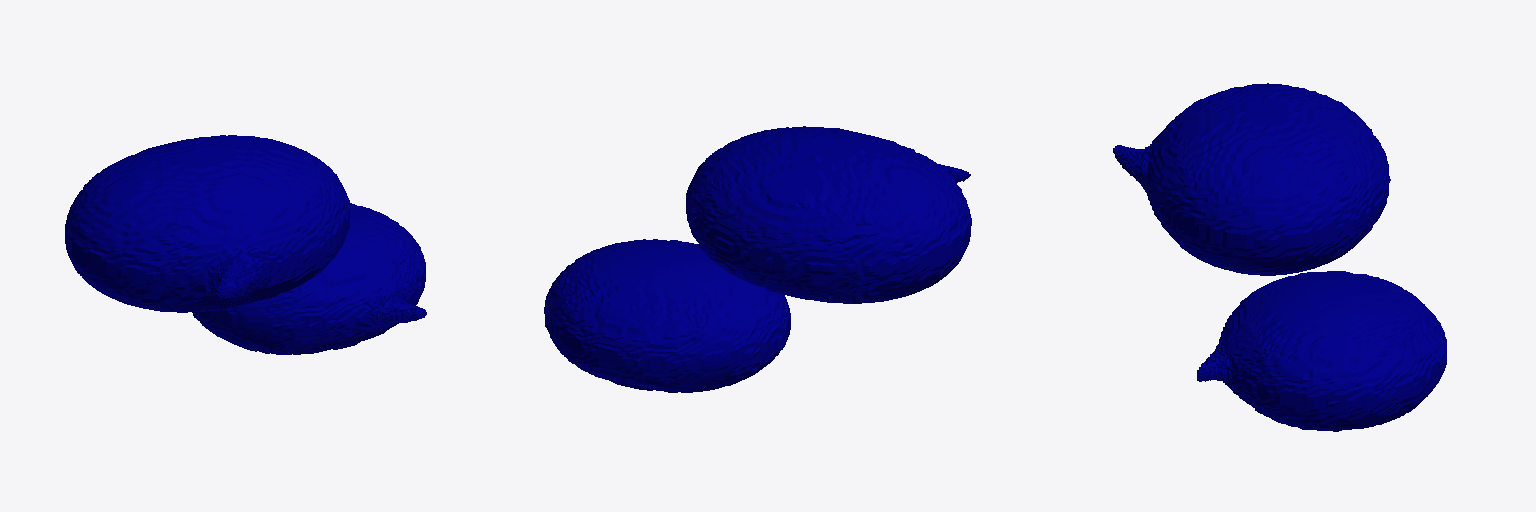
Rendered from chat-bubble.obj.
3 views of the same model, side by side, from view 1: azimuth 30°, elevation 25°; view 2: azimuth 150°, elevation 25°; view 3: azimuth 270°, elevation 25° (orthographic).
Bounding box in the file's own units: 197 × 120 × 155.